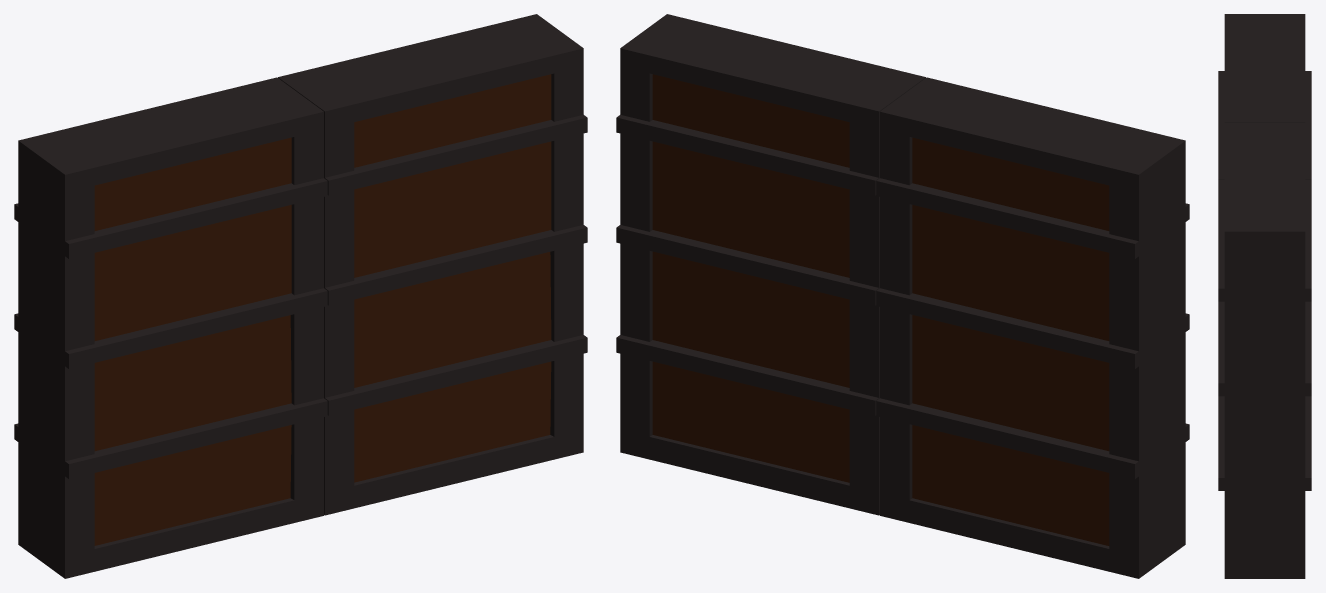
The model's file is Porta.FBX.
3 renders of one model, left to right at view 1: azimuth 30°, elevation 25°; view 2: azimuth 150°, elevation 25°; view 3: azimuth 270°, elevation 25°, orthographic. The views are drawn at different scales.
Parts seen in each view (by area): view 1: Box009; view 2: Box009; view 3: Box009.
Boxes of the visible parts, box(x1,y1,x2,y2) form: Box009: box(14, 14, 587, 578); Box009: box(616, 14, 1189, 578); Box009: box(1218, 14, 1311, 578).
Bounding box in the file's own units: 1104 × 201 × 822.
